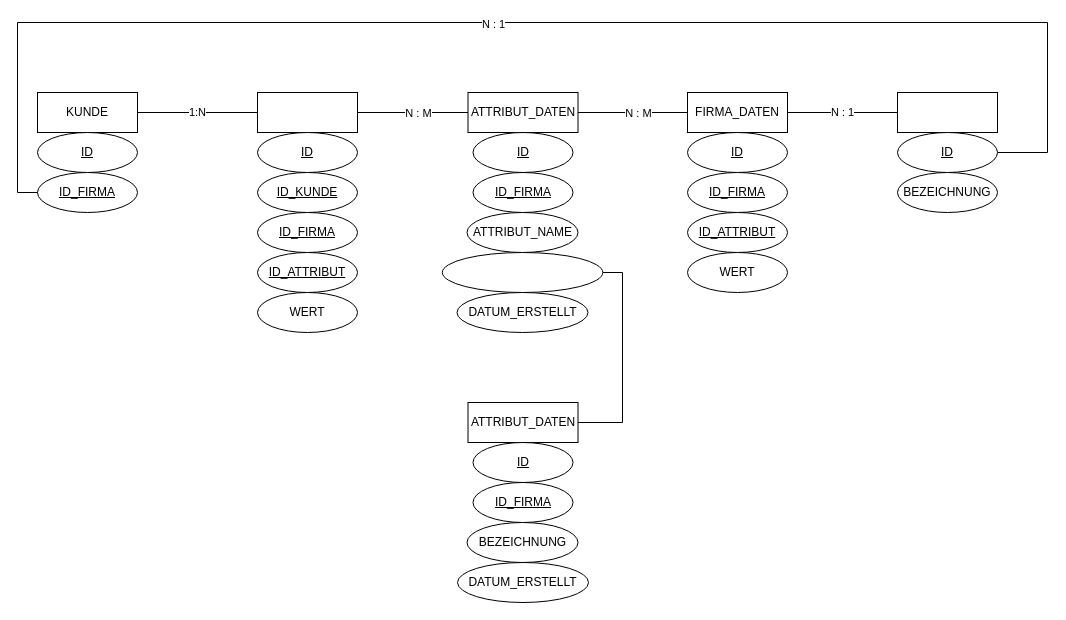
The diagram is 1066 pixels wide and 620 high, and some of its shapes have lost their labels. The centre of each missing label's shape, as x and y in pixels:
FIRMA: point (947, 112)
ID_ATTRIBUT_DATENTYP: point (522, 272)
KUNDE_DATEN: point (307, 112)
